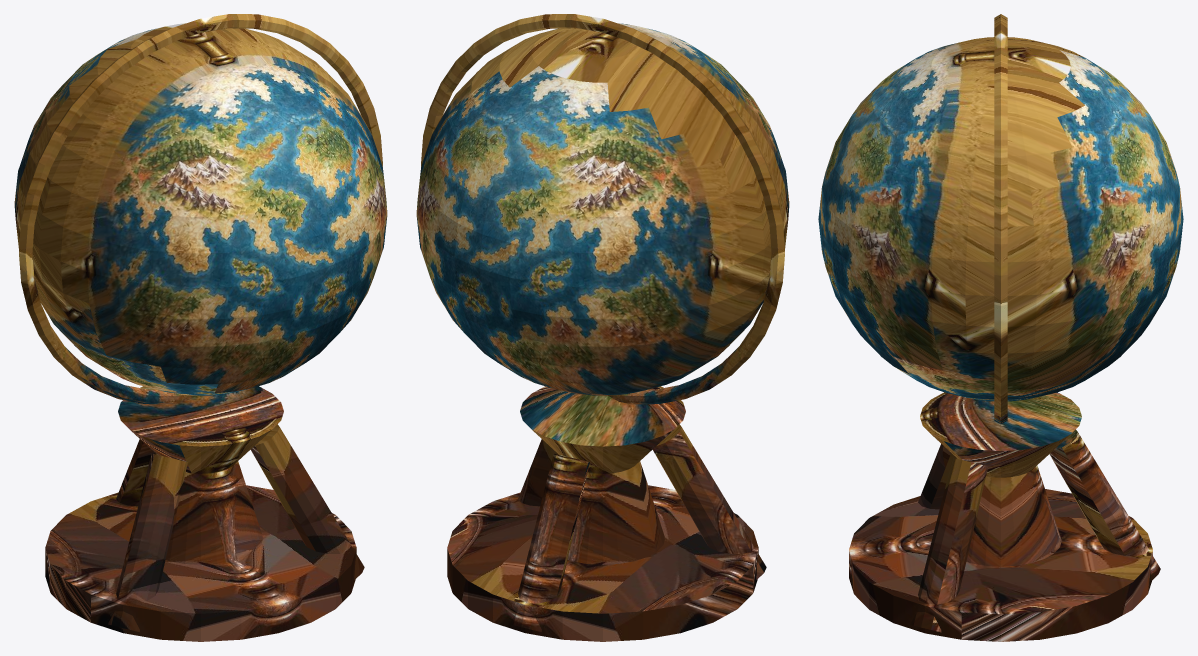
The model's file is v3-library-globe.glb.
3 renders of one model, left to right at view 1: azimuth 30°, elevation 25°; view 2: azimuth 150°, elevation 25°; view 3: azimuth 270°, elevation 25°, orthographic. The views are drawn at different scales.
Parts seen in each view (by area): view 1: v3-library-globe; view 2: v3-library-globe; view 3: v3-library-globe.
Boxes of the visible parts, box(x1,y1,x2,y2) form: v3-library-globe: box(14, 14, 387, 641); v3-library-globe: box(416, 14, 789, 641); v3-library-globe: box(818, 14, 1183, 641).
Bounding box in the file's own units: 0.81 × 1.2 × 0.72.
1 material, 1 textured.
